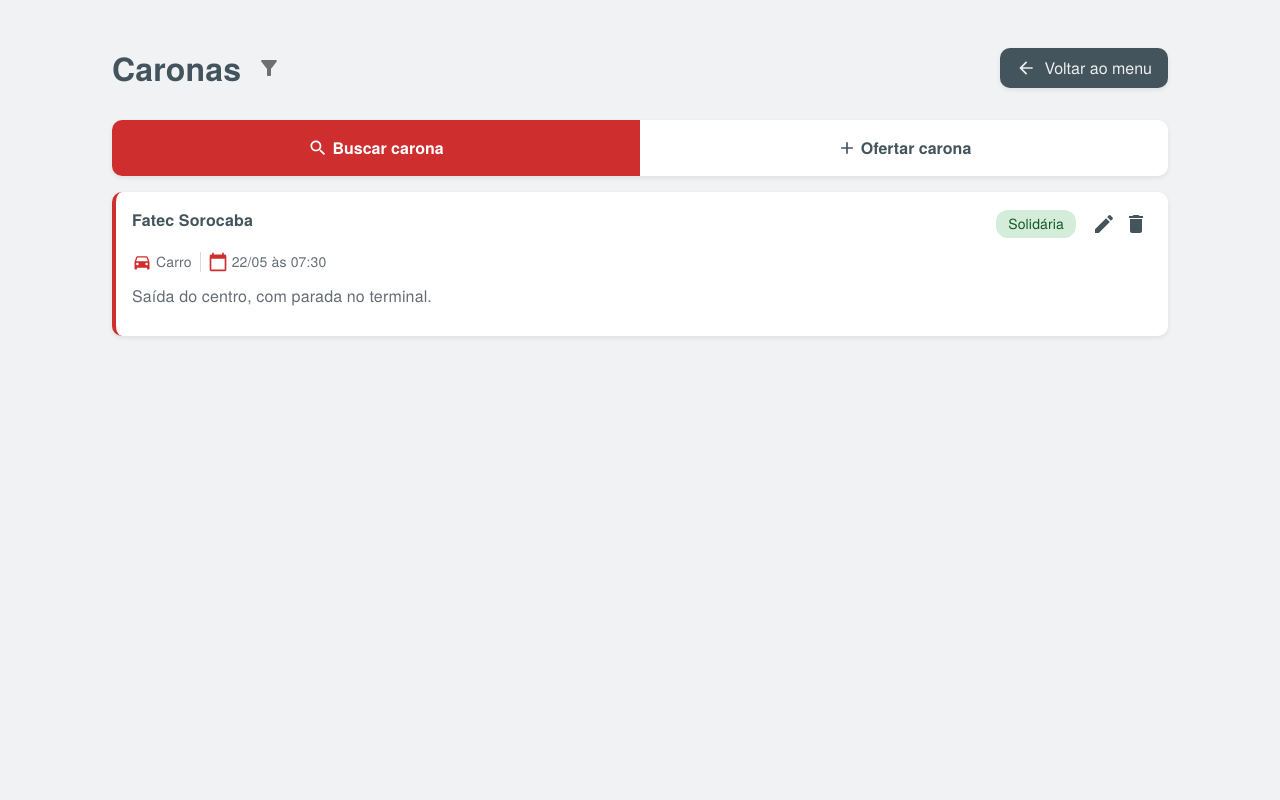
Test: Rides › should delete the ride once the removal is confirmed
The width and height of the screenshot is (1280, 800).
Expected: the text "Fatec Sorocaba" is shown, top-left (132, 208), bottom-right (253, 232)
Click the button named "Excluir". click: x=1136, y=224
box: top-left (1120, 208), bottom-right (1152, 240)
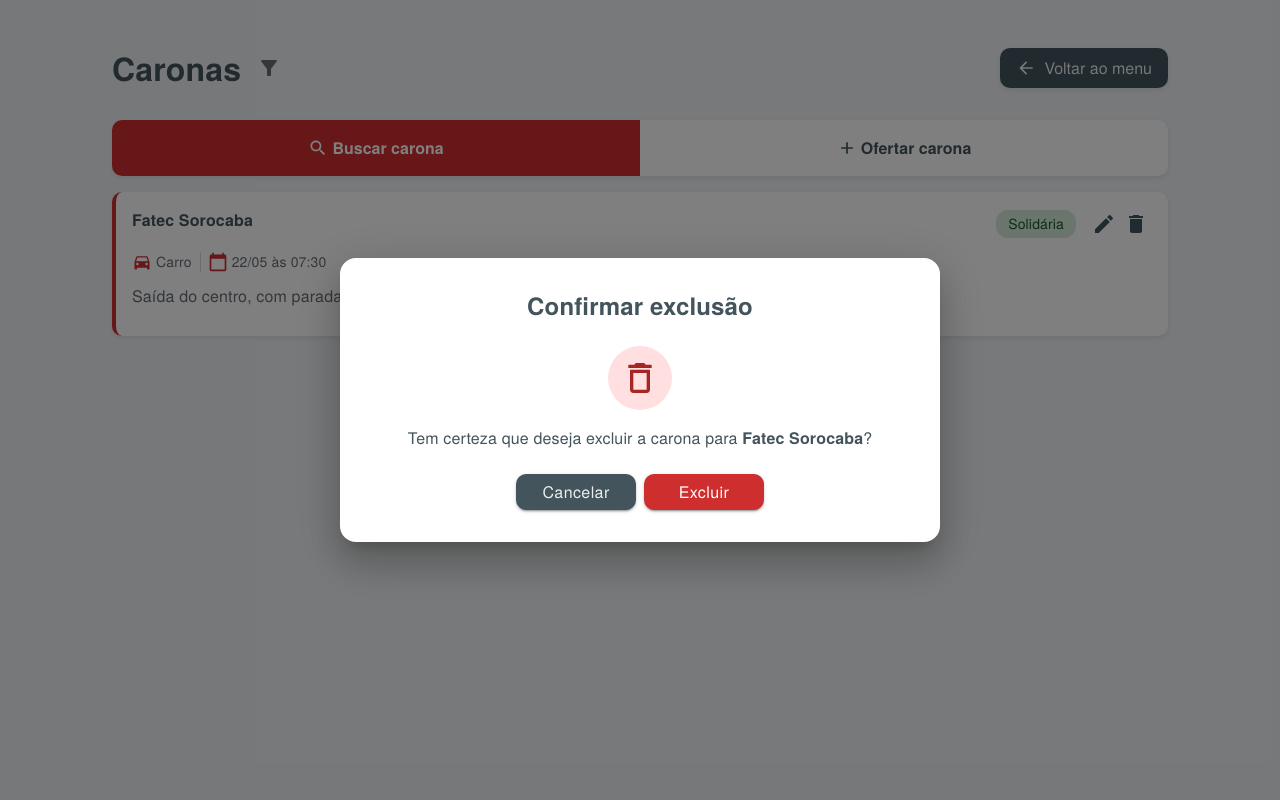
Click the button "Excluir". click: x=704, y=492
box: top-left (644, 474), bottom-right (764, 510)
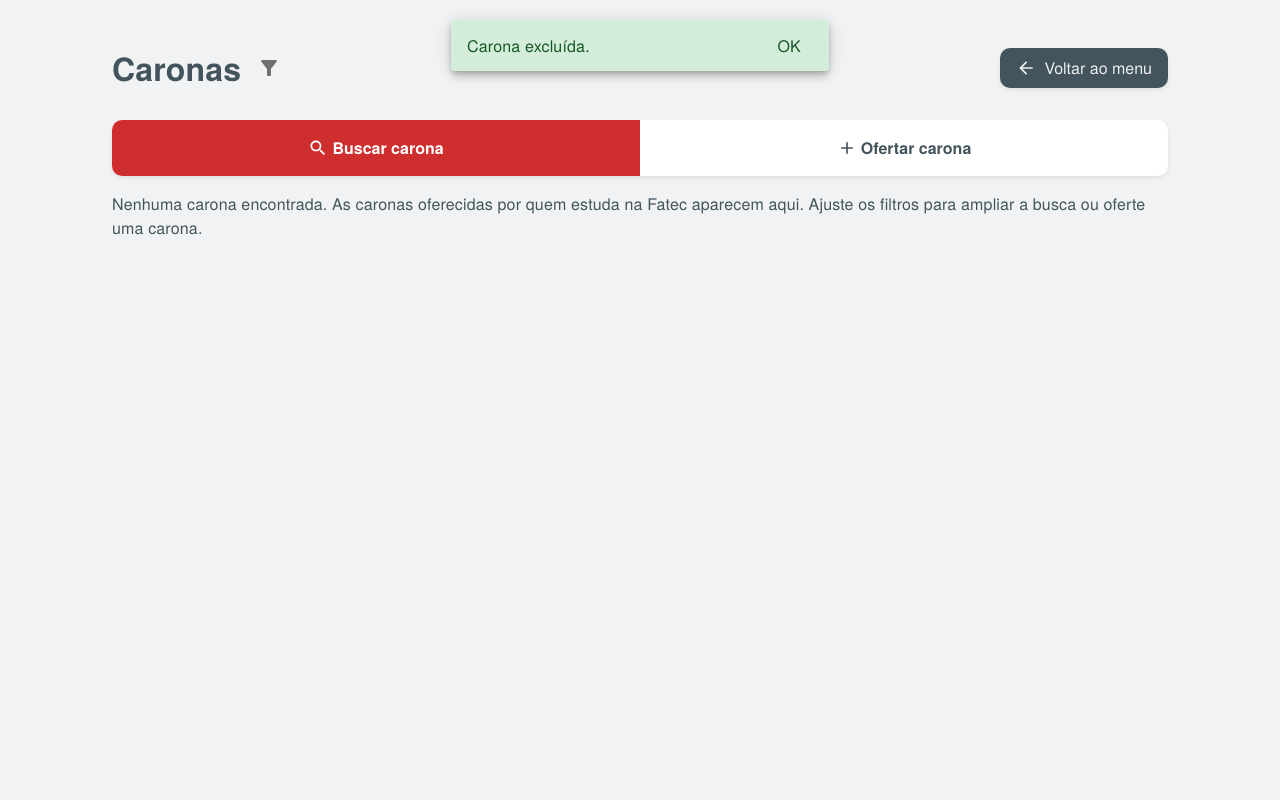
Expected: the text "Carona excluída." is shown, top-left (467, 34), bottom-right (590, 57)
Expected: the text "Nenhuma carona encontrada. As caronas oferecidas por quem estuda na Fatec aparecem aqui. Ajuste os filtros para ampliar " is shown, top-left (112, 192), bottom-right (1145, 239)
